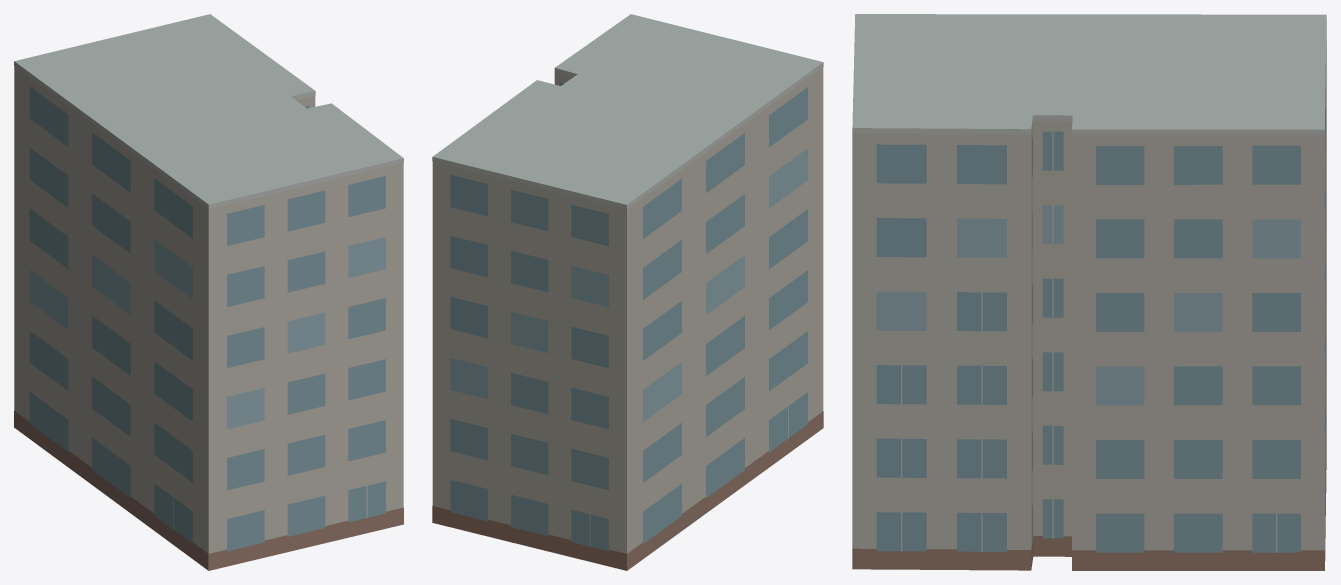
The model's file is survey-upis-32965995.glb.
3 renders of one model, left to right at view 1: azimuth 30°, elevation 25°; view 2: azimuth 150°, elevation 25°; view 3: azimuth 270°, elevation 25°, orthographic. The views are drawn at different scales.
Parts seen in each view (by area): view 1: survey-upis-32965995.tmp; view 2: survey-upis-32965995.tmp; view 3: survey-upis-32965995.tmp.
Boxes of the visible parts, x1=… form: survey-upis-32965995.tmp: x1=14, y1=14, x2=403, y2=570; survey-upis-32965995.tmp: x1=432, y1=14, x2=823, y2=570; survey-upis-32965995.tmp: x1=852, y1=14, x2=1326, y2=570.
Size of the model in its own units: 10.63 by 18.9 by 18.42.
